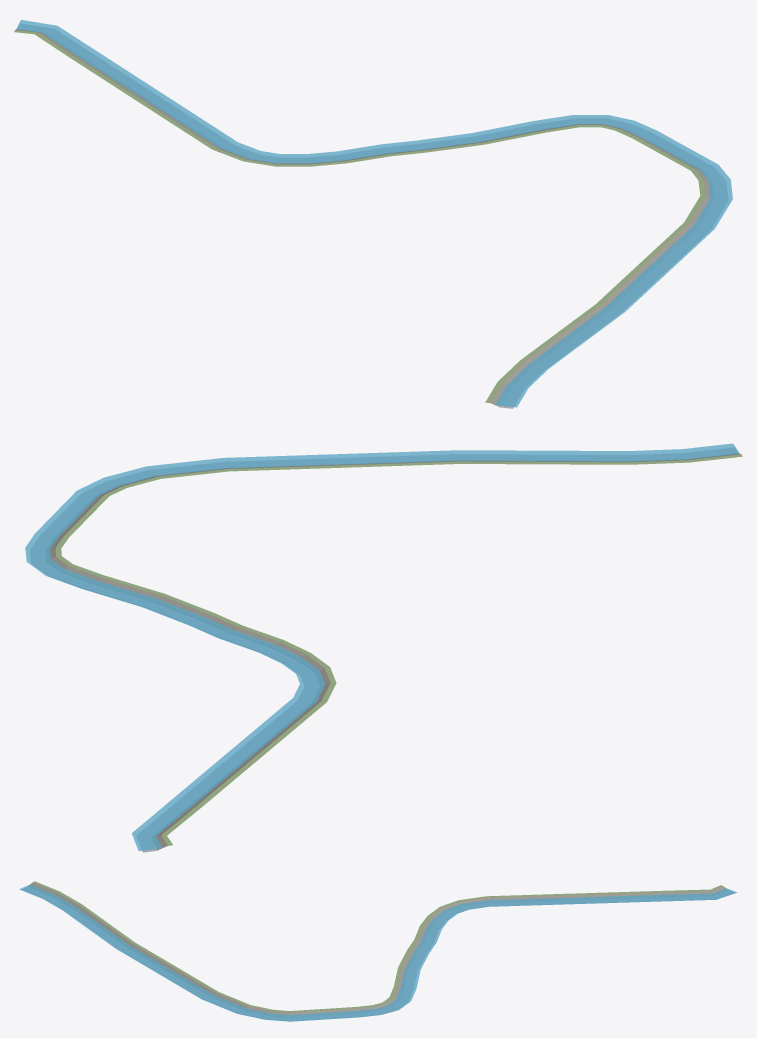
File: corridor-09.glb
3 renders of one model, top to bottom at view 1: azimuth 30°, elevation 25°; view 2: azimuth 150°, elevation 25°; view 3: azimuth 270°, elevation 25°, orthographic. The views are drawn at different scales.
Parts seen in each view (by area): view 1: water_water, concreteDark_terrain, rock_terrain, grass_terrain; view 2: water_water, concreteDark_terrain, rock_terrain, grass_terrain; view 3: water_water, concreteDark_terrain, rock_terrain, grass_terrain.
Part boxes in pixels (<box>): water_water: <box>16,20,732,407</box>; concreteDark_terrain: <box>18,24,727,408</box>; rock_terrain: <box>15,29,713,406</box>; grass_terrain: <box>14,30,705,402</box>; water_water: <box>25,443,739,851</box>; concreteDark_terrain: <box>30,448,737,852</box>; rock_terrain: <box>46,453,740,849</box>; grass_terrain: <box>55,454,742,845</box>; water_water: <box>19,884,737,1021</box>; concreteDark_terrain: <box>22,887,733,1020</box>; rock_terrain: <box>29,882,726,1016</box>; grass_terrain: <box>32,881,723,1012</box>.
Bounding box in the file's own units: 2761 × 52.28 × 5878.
Materials: 4 (4 with a texture image).
